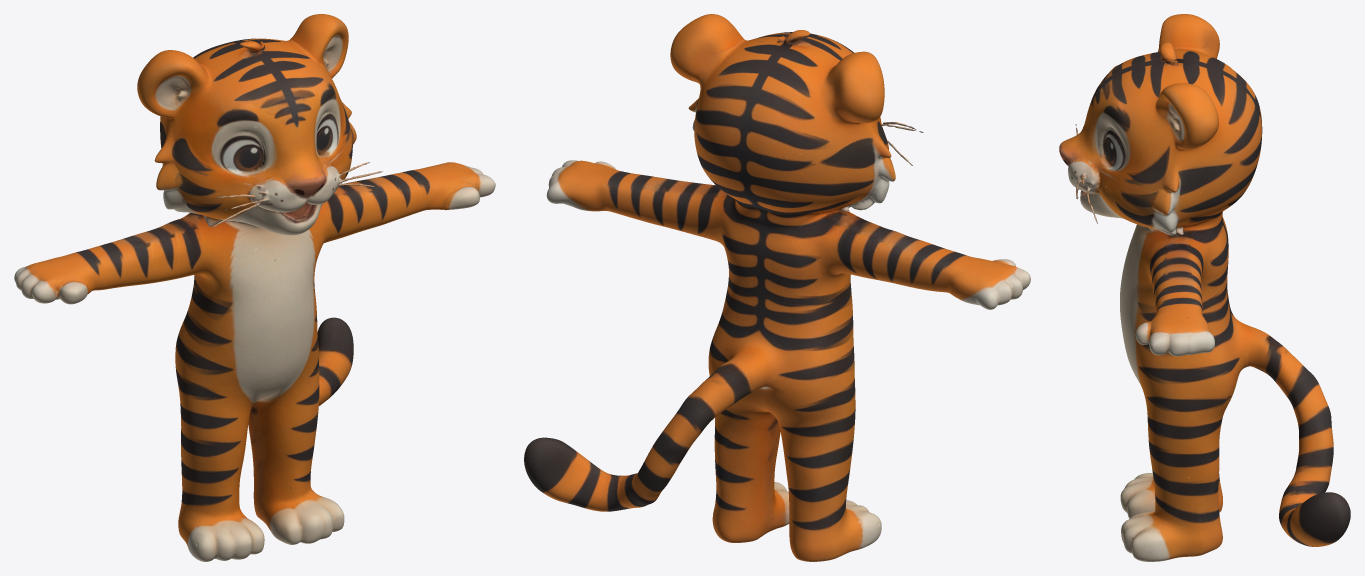
Rendered from Meshy_AI_Cheerful_Tiger_0731102335_texture.fbx.
The picture shows the model from 3 angles, left to right: view 1: azimuth 30°, elevation 25°; view 2: azimuth 150°, elevation 25°; view 3: azimuth 270°, elevation 25°; orthographic projection. The views are drawn at different scales.
Parts seen in each view (by area): view 1: Mesh_0; view 2: Mesh_0; view 3: Mesh_0.
Part boxes in pixels (left/top/right/bottom): Mesh_0: left=14, top=14, right=495, bottom=561; Mesh_0: left=524, top=14, right=1030, bottom=561; Mesh_0: left=1059, top=14, right=1350, bottom=561.
Bounding box in the file's own units: 194 × 200 × 110.
1 material, 1 textured.
